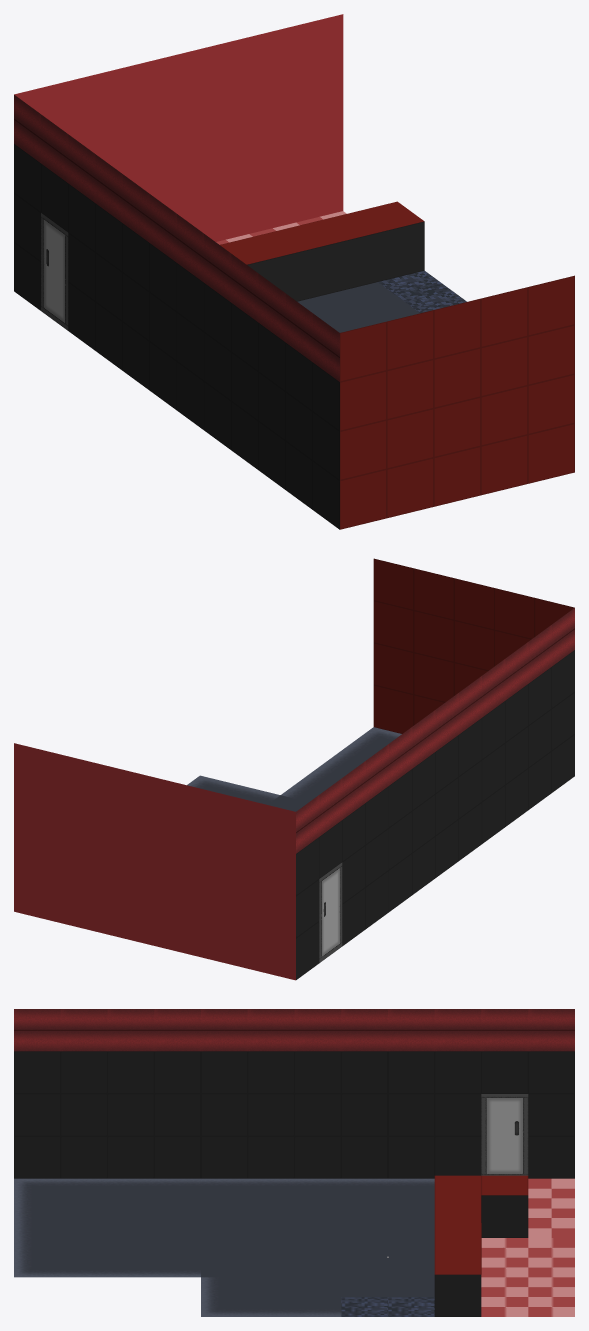
The model's file is chefshackrestaurant.dae.
3 views of the same model, one above another, from view 1: azimuth 30°, elevation 25°; view 2: azimuth 150°, elevation 25°; view 3: azimuth 270°, elevation 25° (orthographic). The views are drawn at different scales.
Visible parts, largest first — view 1: chefshack-col; view 2: chefshack-col; view 3: chefshack-col.
Part boxes in pixels (box(x1,y1,x2,y2)): chefshack-col: box(14, 14, 574, 529); chefshack-col: box(14, 558, 574, 980); chefshack-col: box(14, 1009, 574, 1316).
Size of the model in its own units: 13.56 by 23.25 by 7.78.
1 material, 1 textured.
